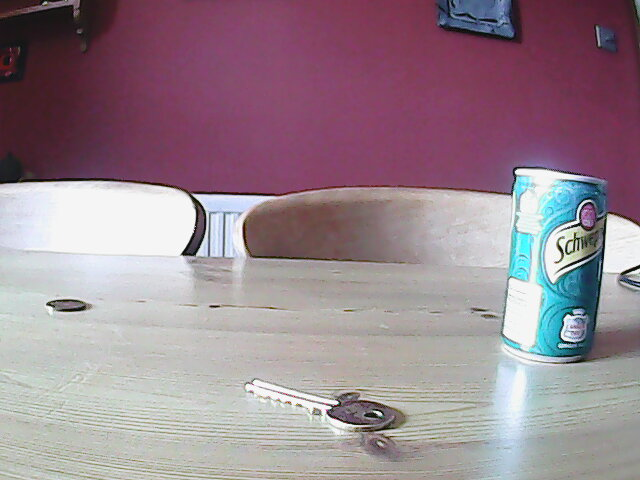Can: (494, 159, 611, 369), (238, 377, 400, 438)
Coin: (44, 296, 92, 313)
